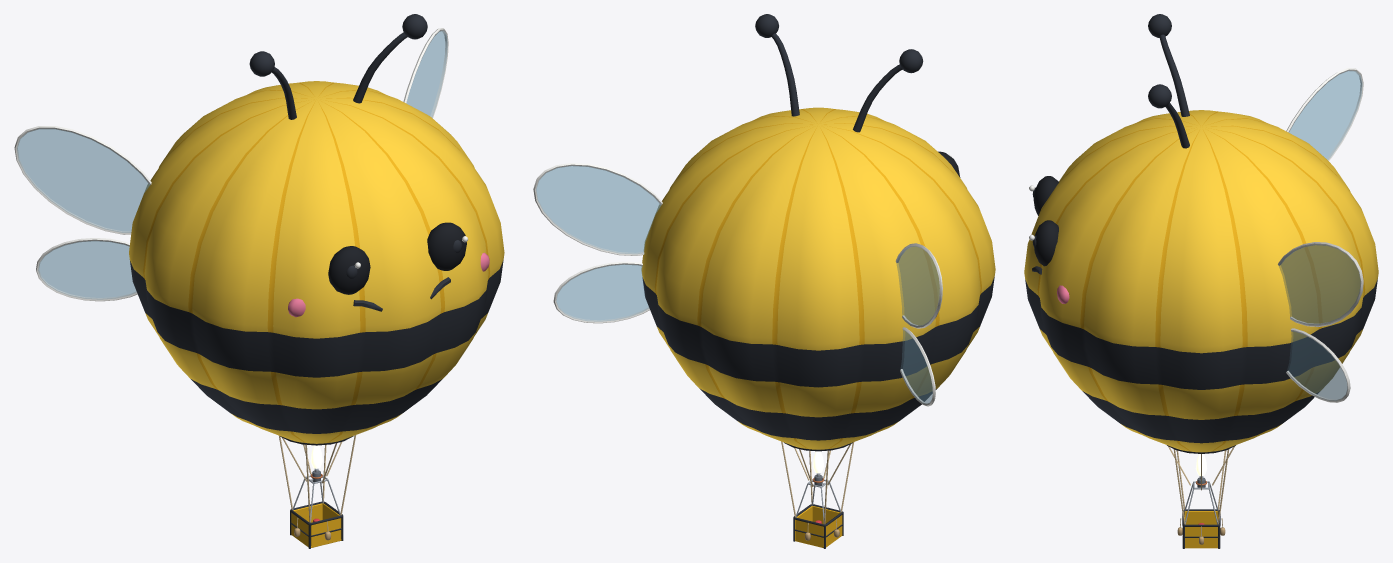
Rendered from balao_abelha.glb.
3 renders of one model, left to right at view 1: azimuth 30°, elevation 25°; view 2: azimuth 150°, elevation 25°; view 3: azimuth 270°, elevation 25°, orthographic. The views are drawn at different scales.
Parts seen in each view (by area): view 1: balao_abelha; view 2: balao_abelha; view 3: balao_abelha.
Boxes of the visible parts, left/top/right/bottom form: balao_abelha: left=14, top=14, right=504, bottom=548; balao_abelha: left=533, top=14, right=995, bottom=548; balao_abelha: left=1024, top=14, right=1378, bottom=548.
Size of the model in its own units: 19.58 by 22.45 by 14.7.
Materials: 3 (1 with a texture image).
